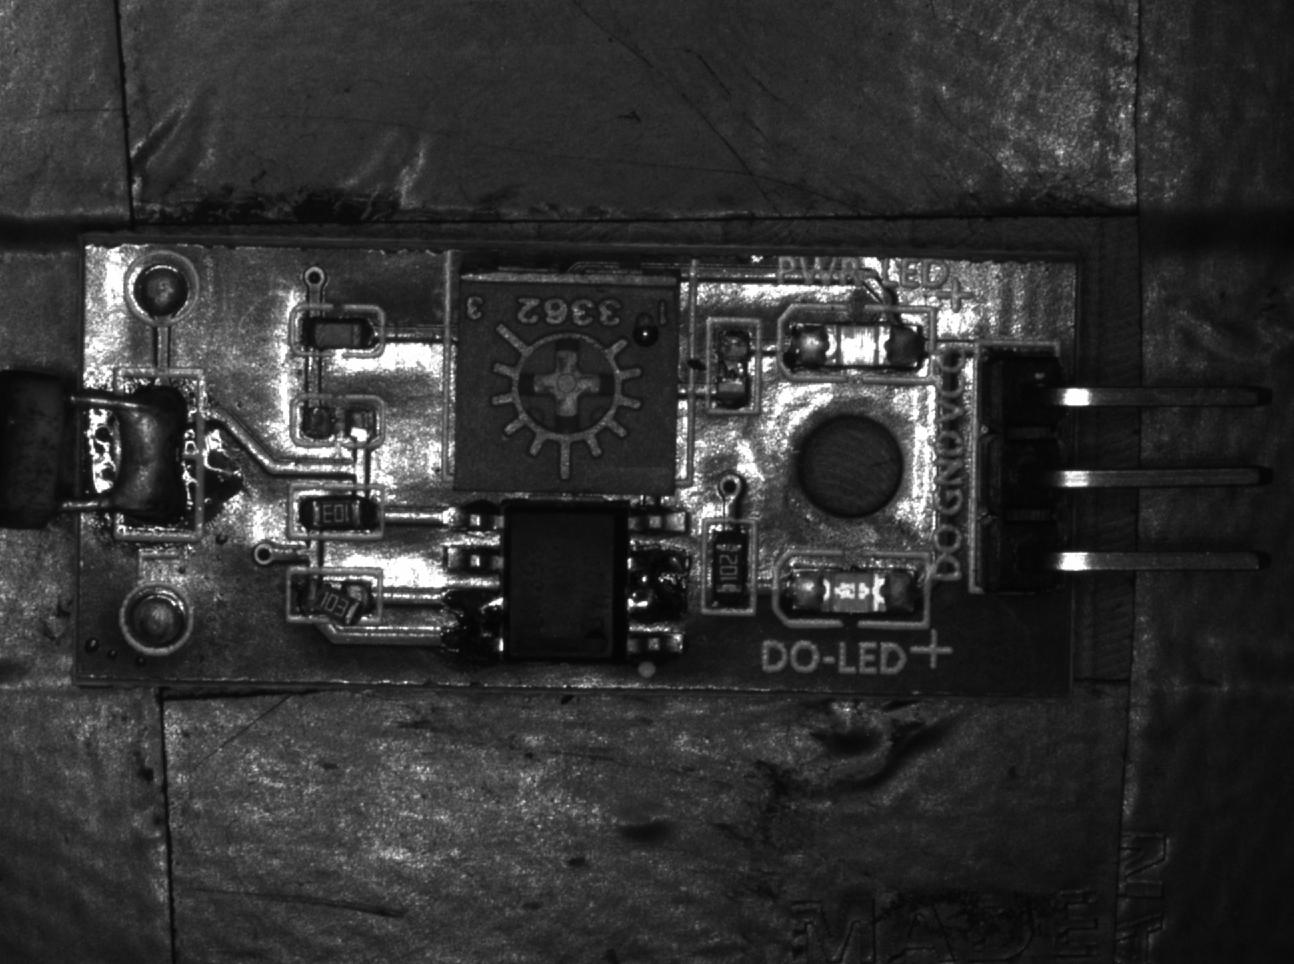bridge: (83, 369, 206, 544), (623, 533, 694, 624), (439, 584, 506, 666)
lifted: (294, 568, 378, 638)
miss: (285, 388, 384, 453), (704, 313, 763, 418)
ok: (290, 480, 384, 540), (284, 304, 386, 356), (701, 518, 754, 616)
